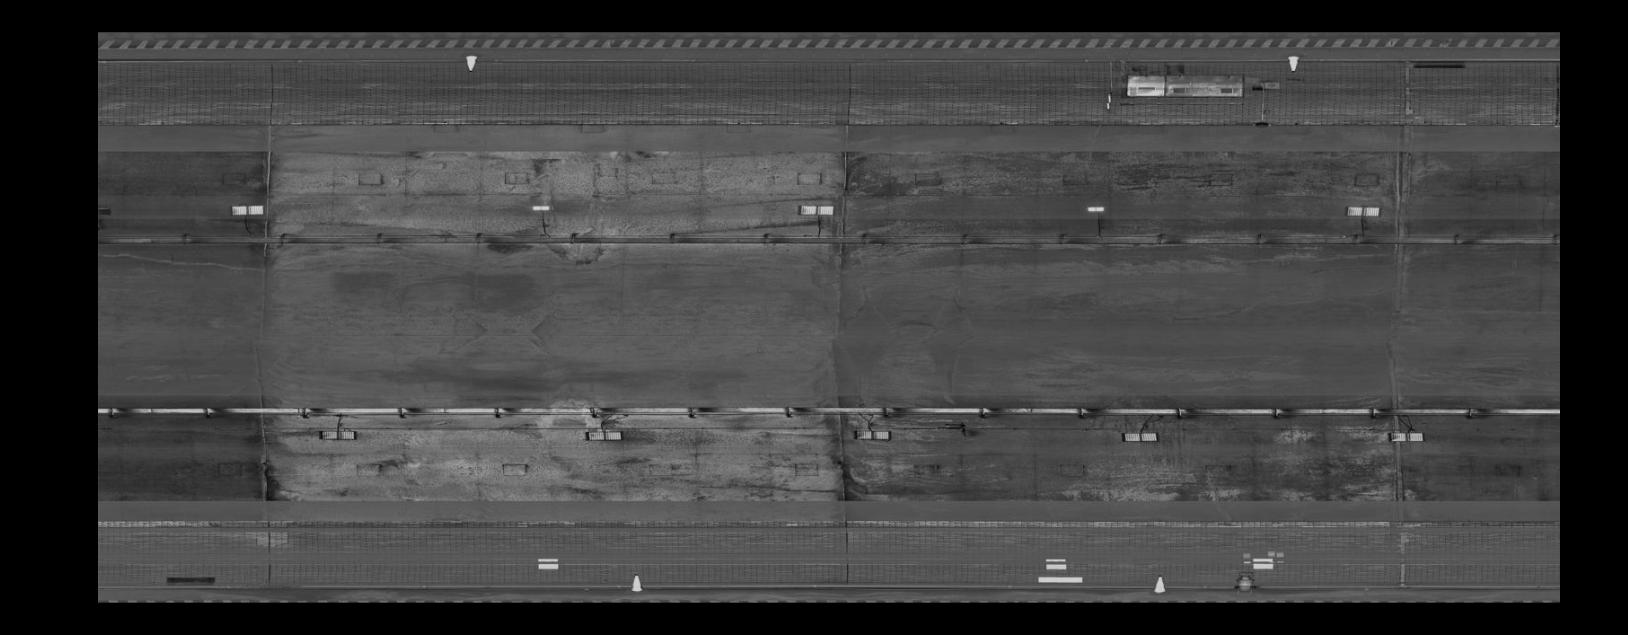light: (579, 427, 625, 445), (1117, 429, 1163, 446), (314, 426, 360, 443), (848, 426, 894, 443), (1340, 203, 1383, 219), (1384, 429, 1427, 444), (796, 202, 837, 217), (225, 201, 265, 216), (527, 203, 557, 212), (1082, 204, 1110, 213)
